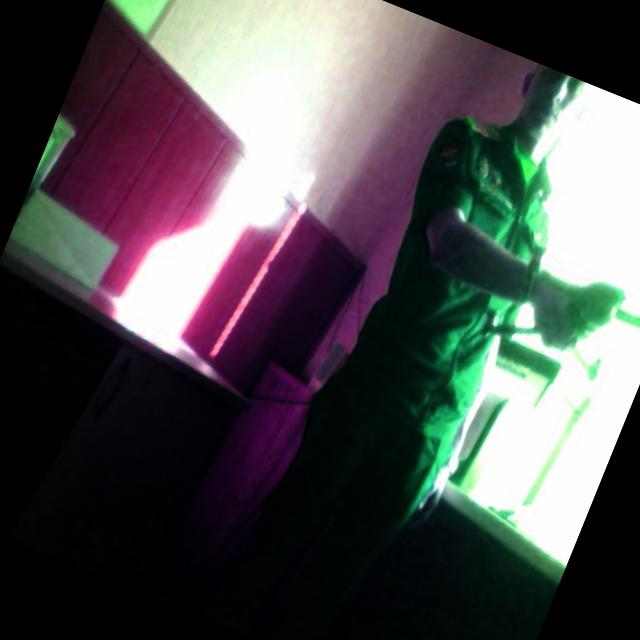drone: (452, 184, 640, 422)
